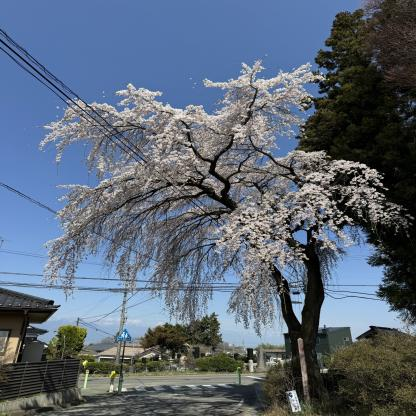ShidareZakura: (36, 55, 415, 340)
